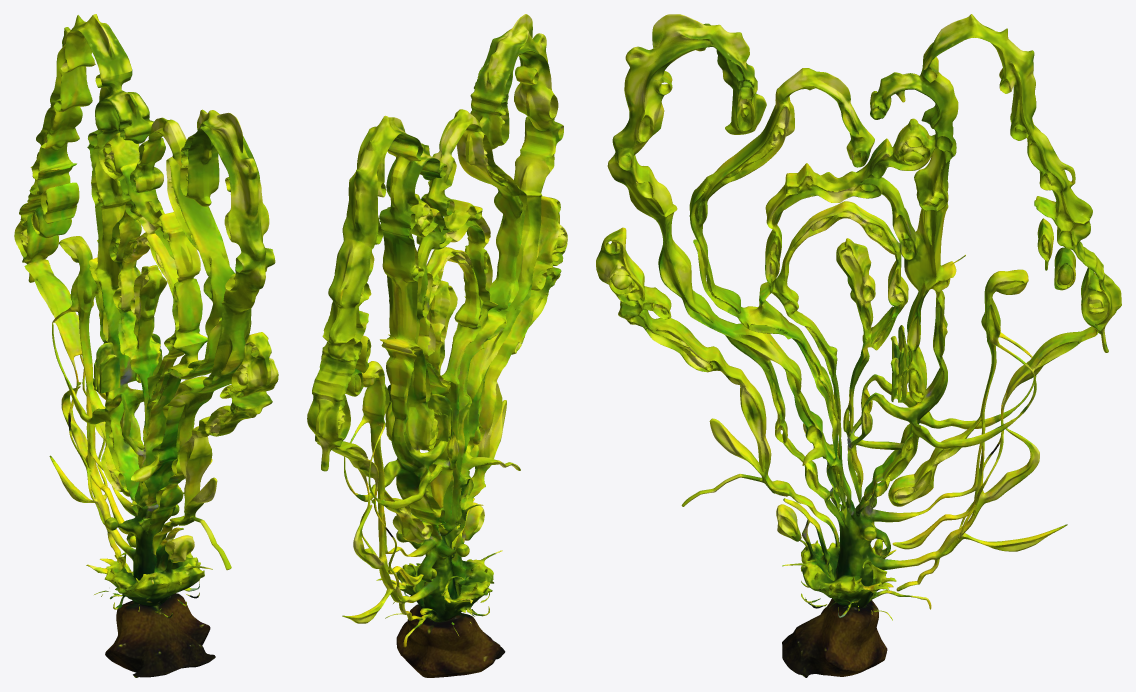
Rendered from Enteromorpha Intestinalis.glb.
3 views of the same model, side by side, from view 1: azimuth 30°, elevation 25°; view 2: azimuth 150°, elevation 25°; view 3: azimuth 270°, elevation 25° (orthographic). The views are drawn at different scales.
Visible parts, largest first — view 1: tripo_node_4609b35f-ddd5-4ed9-a736-7d60f120cf31; view 2: tripo_node_4609b35f-ddd5-4ed9-a736-7d60f120cf31; view 3: tripo_node_4609b35f-ddd5-4ed9-a736-7d60f120cf31.
Boxes of the visible parts, left/top/right/bottom form: tripo_node_4609b35f-ddd5-4ed9-a736-7d60f120cf31: left=14, top=14, right=278, bottom=677; tripo_node_4609b35f-ddd5-4ed9-a736-7d60f120cf31: left=307, top=14, right=567, bottom=677; tripo_node_4609b35f-ddd5-4ed9-a736-7d60f120cf31: left=596, top=14, right=1121, bottom=677.
Size of the model in its own units: 0.1727 by 1 by 0.7386.
Materials: 1 (1 with a texture image).
